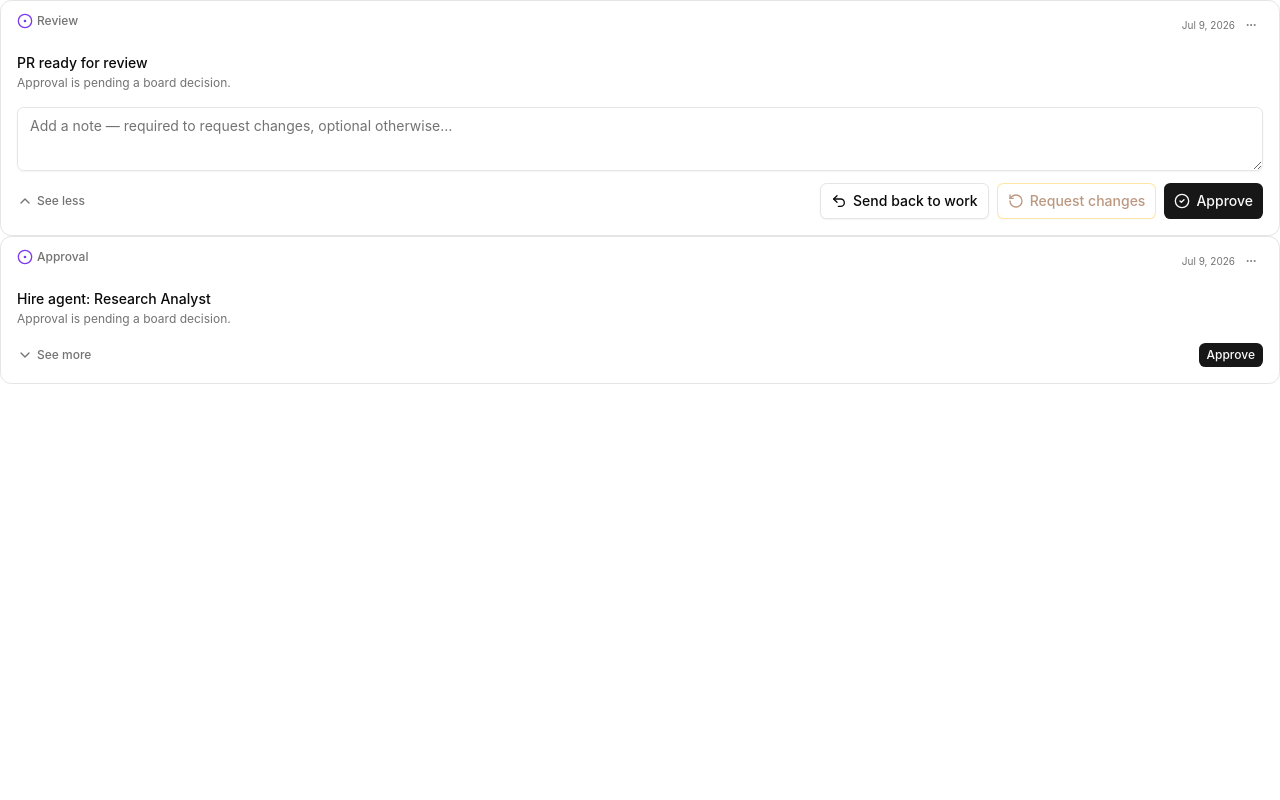
AttentionQueueRow › submits a compact approval without expanding the card and confirms it
Click the 2nd button "Approve".
click(1231, 355)  # box left=1198, top=343, right=1263, bottom=367
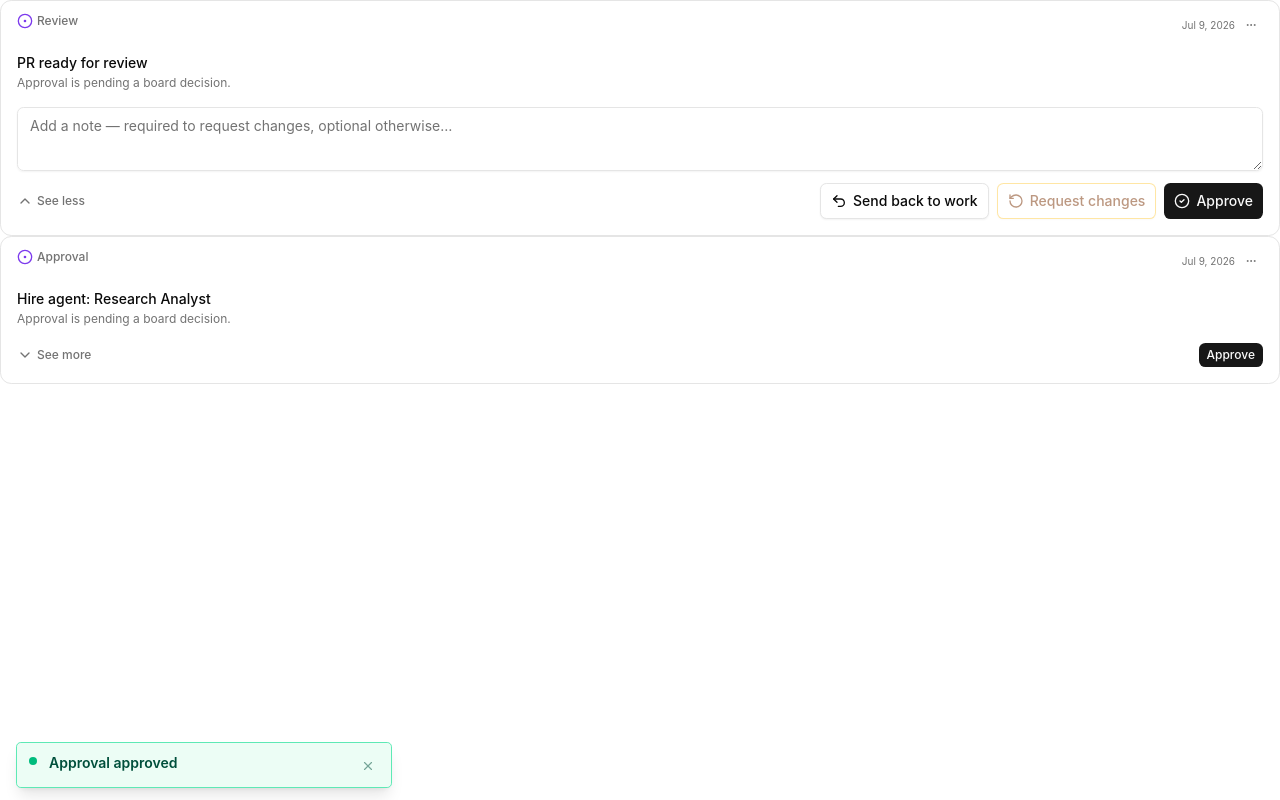
Expected: the text "Approval approved" is shown, left=49, top=754, right=178, bottom=771
